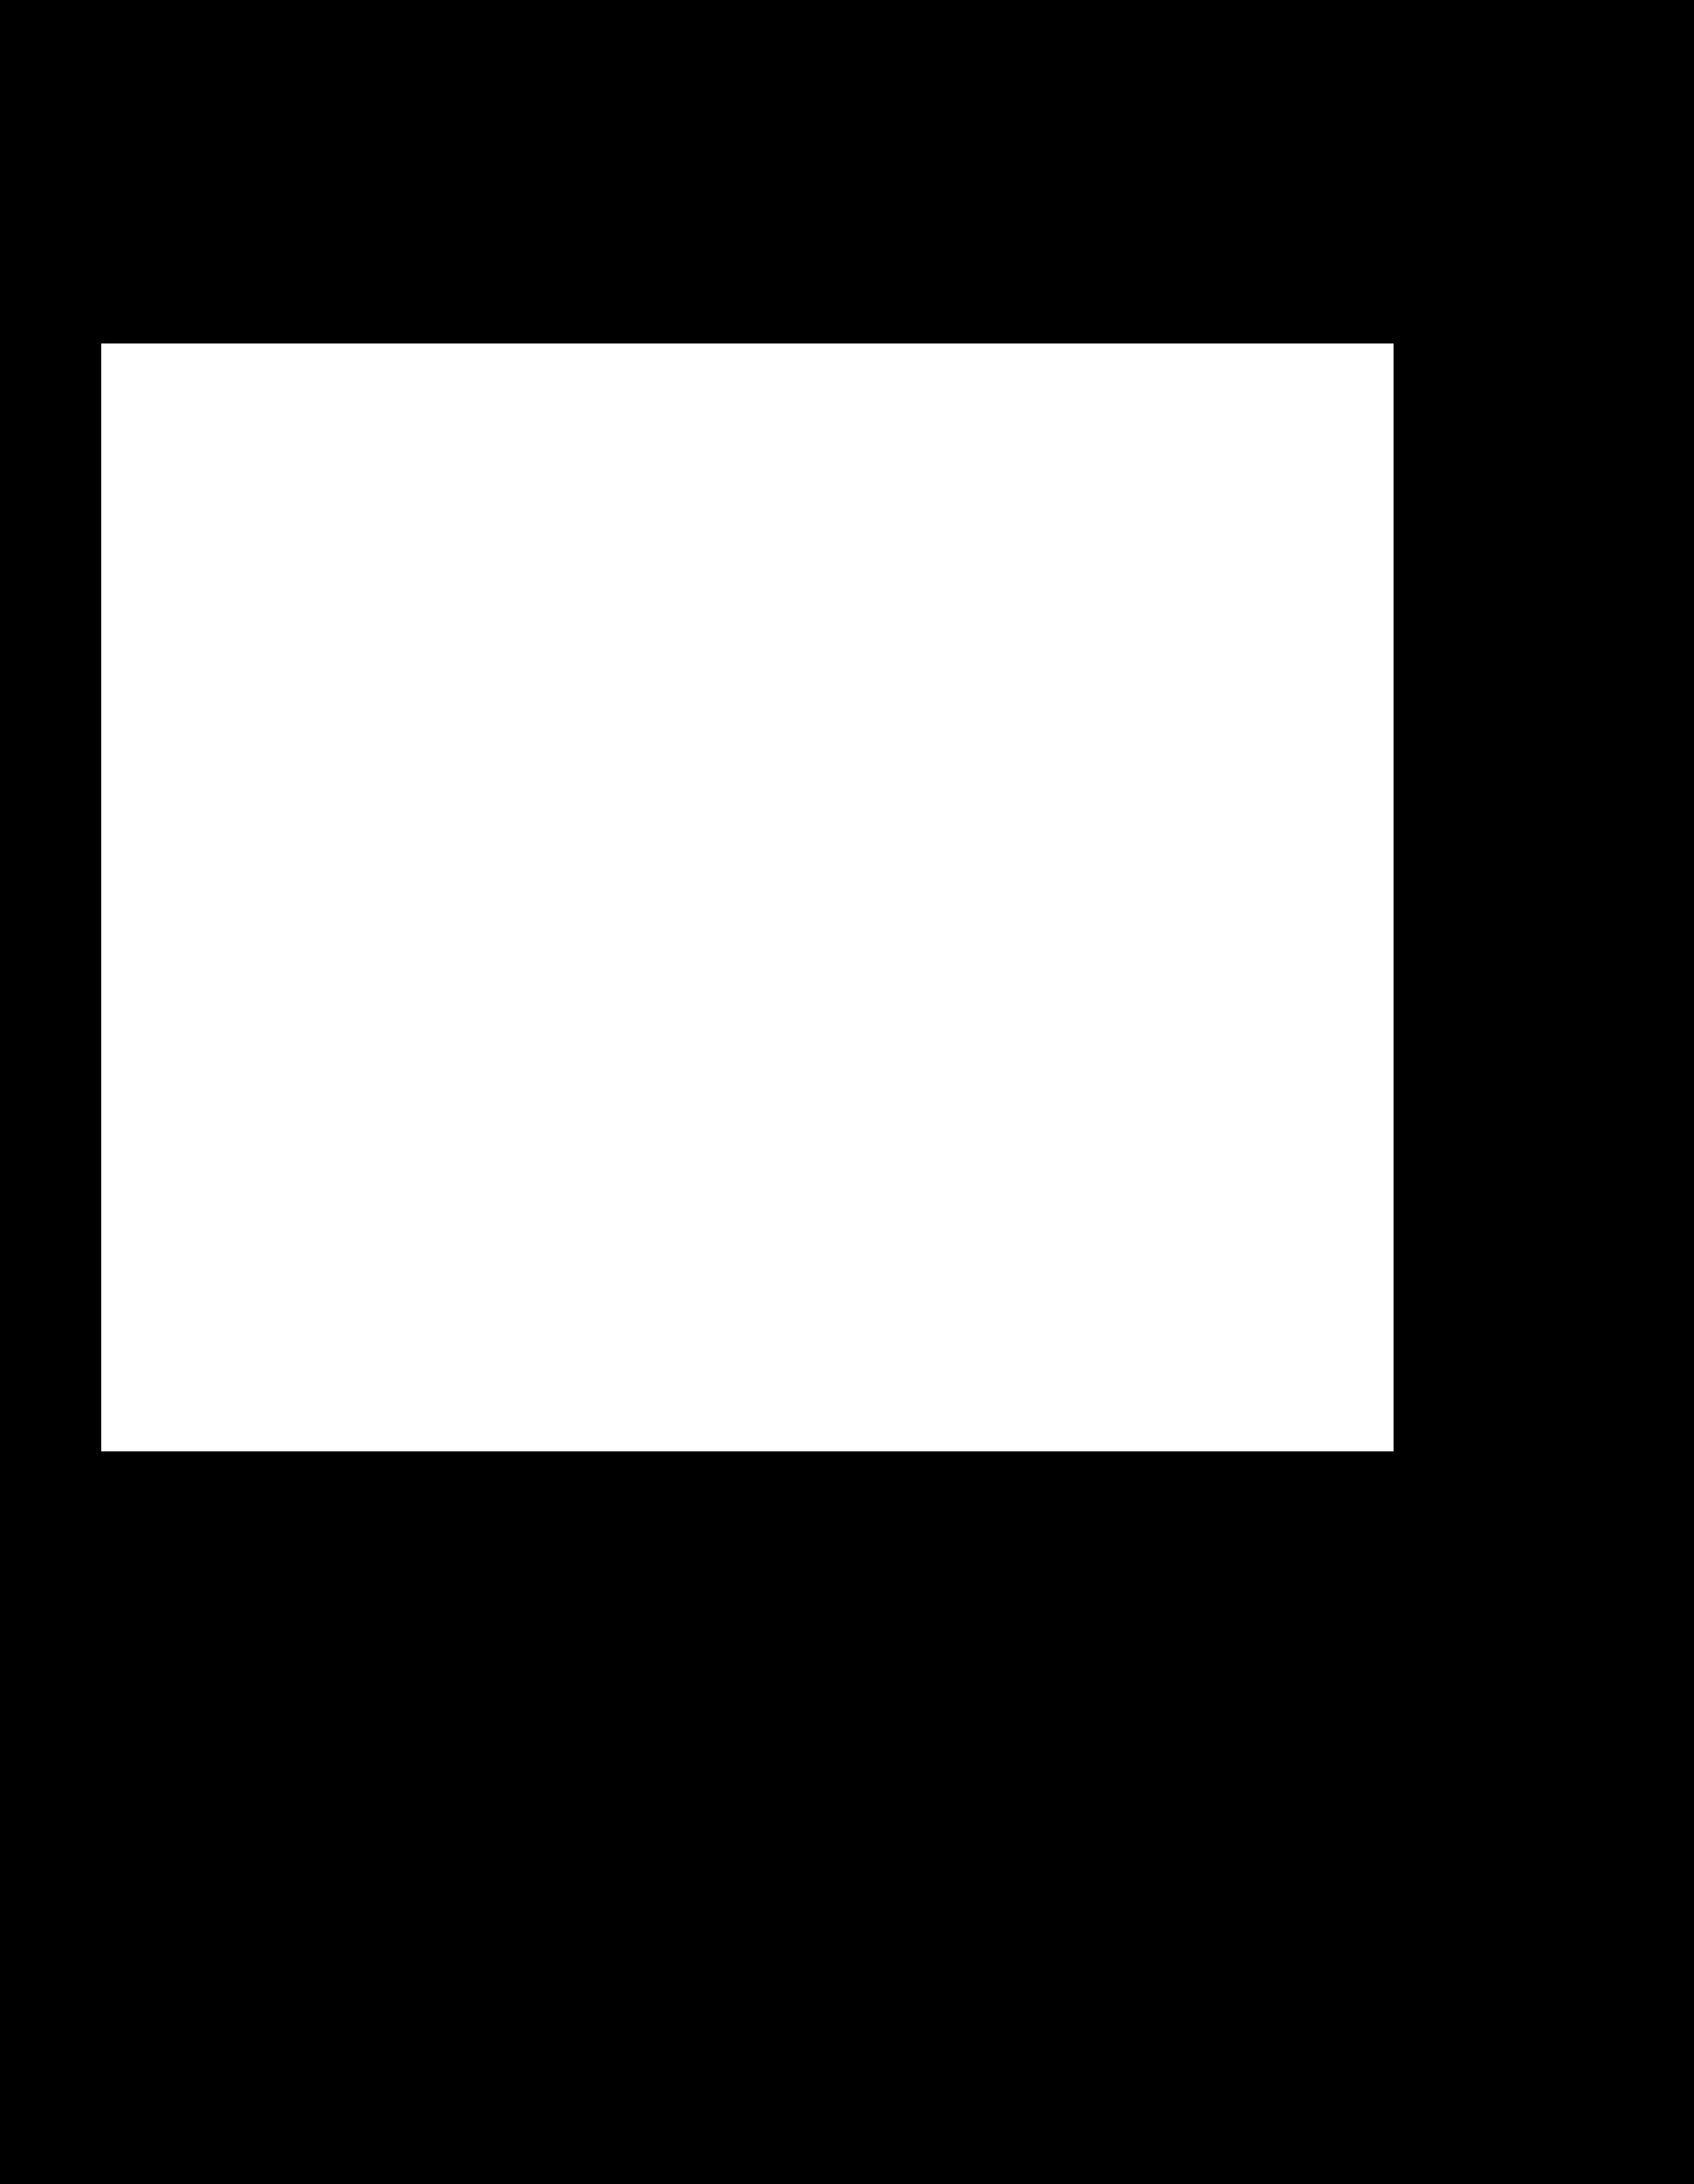table: (101, 344, 1393, 1450)
